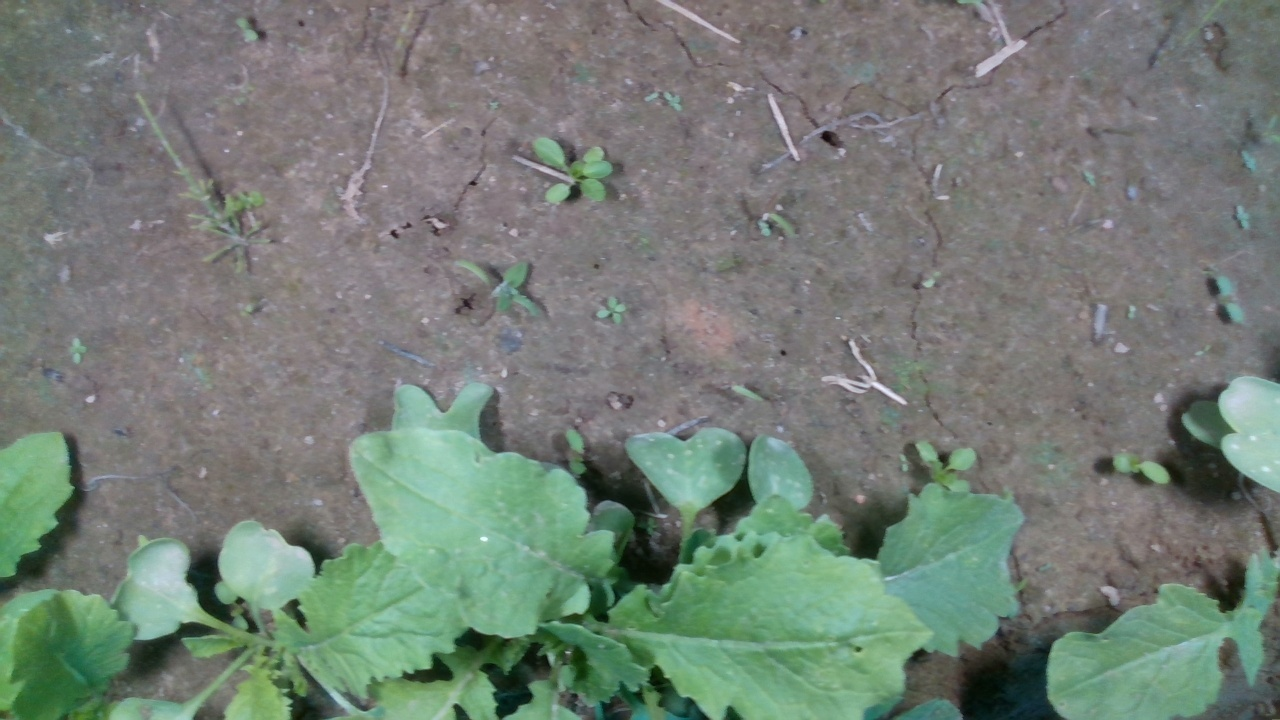weed: (1111, 451, 1171, 486), (1214, 272, 1245, 326), (593, 294, 627, 327), (236, 14, 260, 45), (64, 335, 88, 365), (1233, 204, 1251, 231), (1240, 148, 1258, 172)
